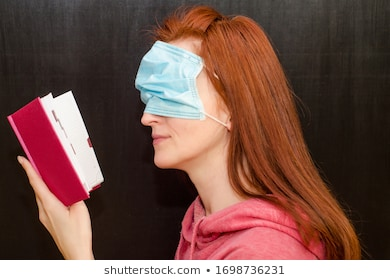mask_weared_incorrect: (131, 53, 205, 175)
